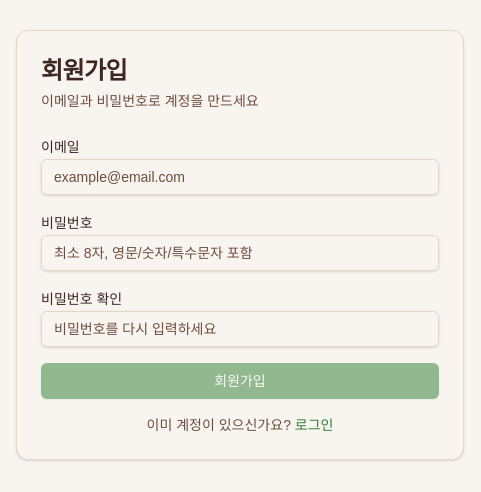
Test: SignUpPage › 유효한 입력 시 제출 버튼이 활성화되어야 함
Expected: the button "회원가입" is disabled, [41,363,439,399]
# 유효한 값 입력
Type "test@example.com" into the field labelled "이메일" at coordinates (240, 177), box [41,159,439,195]
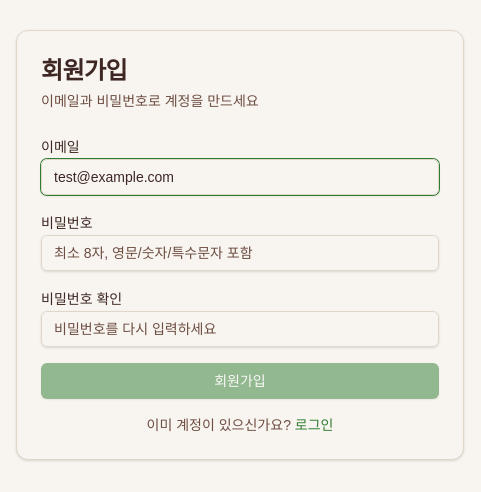
Type "Test123!" into the password field labelled "비밀번호" at coordinates (240, 253), box [41,235,439,271]
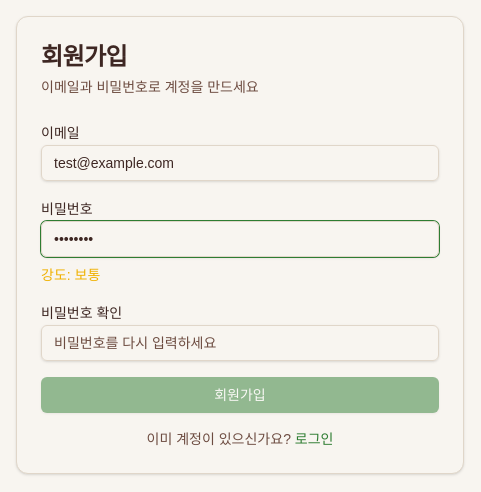
Type "Test123!" into the password field labelled "비밀번호 확인" at coordinates (240, 343), box [41,325,439,361]
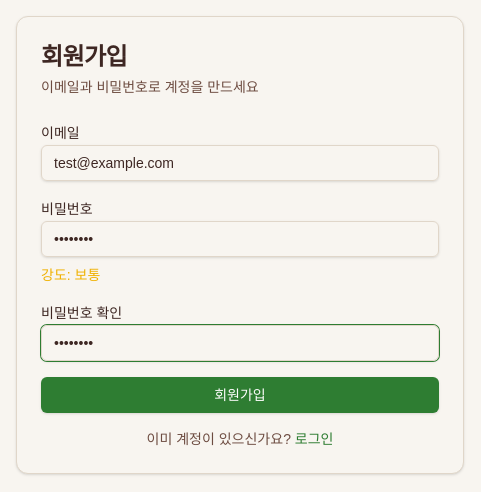
Expected: the button "회원가입" is enabled, [41,377,439,413]
